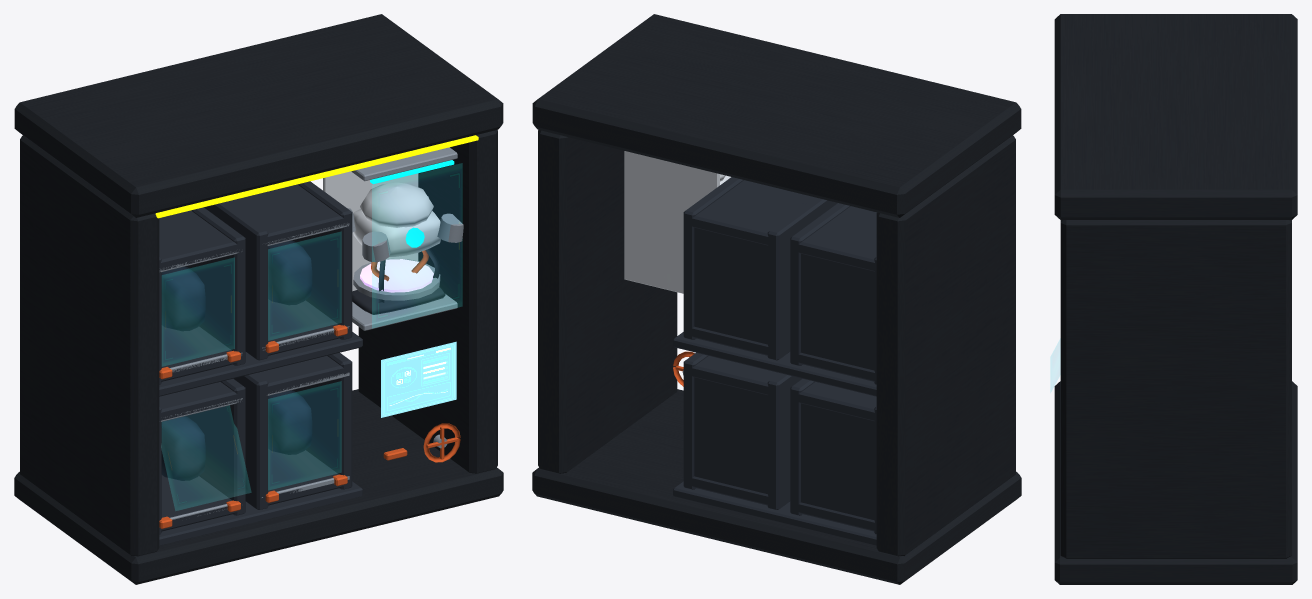
The model's file is cargo_gantry_r1_01.glb.
3 renders of one model, left to right at view 1: azimuth 30°, elevation 25°; view 2: azimuth 150°, elevation 25°; view 3: azimuth 270°, elevation 25°, orthographic.
Visible parts, largest first — view 1: Cargo01_OctagonalGantryStanchions, Cargo01_CarbonSlateContainerMatrix, Cargo01_TranslucentContainerAndDroneGlass, Cargo01_OrbitalNavyCargoBundles, Cargo01_MachinedHoistBeamAndDroneThrusters, Cargo01_WhiteDroneCarapaceAndSupplyDrums, Cargo01_OLEDManifestTerminal, Cargo01_SignalOrangeTwistLocksAndClaws, Cargo01_AmberHoistBeacon, Cargo01_UVInductiveChargeRing, Cargo01_CharcoalDroneCradleAndHoses, Cargo01_CyanLiDARAndCellLEDs; view 2: Cargo01_OctagonalGantryStanchions, Cargo01_CarbonSlateContainerMatrix, Cargo01_WhiteDroneCarapaceAndSupplyDrums; view 3: Cargo01_OctagonalGantryStanchions.
Boxes of the visible parts, x1=… form: Cargo01_OctagonalGantryStanchions: x1=14, y1=14, x2=503, y2=584; Cargo01_CarbonSlateContainerMatrix: x1=159, y1=181, x2=362, y2=545; Cargo01_TranslucentContainerAndDroneGlass: x1=161, y1=164, x2=461, y2=510; Cargo01_OrbitalNavyCargoBundles: x1=161, y1=240, x2=312, y2=480; Cargo01_MachinedHoistBeamAndDroneThrusters: x1=159, y1=147, x2=463, y2=519; Cargo01_WhiteDroneCarapaceAndSupplyDrums: x1=323, y1=171, x2=440, y2=291; Cargo01_OLEDManifestTerminal: x1=381, y1=341, x2=456, y2=417; Cargo01_SignalOrangeTwistLocksAndClaws: x1=159, y1=250, x2=460, y2=528; Cargo01_AmberHoistBeacon: x1=155, y1=135, x2=478, y2=218; Cargo01_UVInductiveChargeRing: x1=360, y1=259, x2=433, y2=292; Cargo01_CharcoalDroneCradleAndHoses: x1=352, y1=248, x2=445, y2=314; Cargo01_CyanLiDARAndCellLEDs: x1=370, y1=160, x2=454, y2=247; Cargo01_OctagonalGantryStanchions: x1=532, y1=14, x2=1021, y2=584; Cargo01_CarbonSlateContainerMatrix: x1=673, y1=177, x2=876, y2=545; Cargo01_WhiteDroneCarapaceAndSupplyDrums: x1=624, y1=151, x2=730, y2=293; Cargo01_OctagonalGantryStanchions: x1=1054, y1=14, x2=1297, y2=584.
Size of the model in its own units: 2.55 by 2.6 by 1.48.
12 materials, 12 textured.
